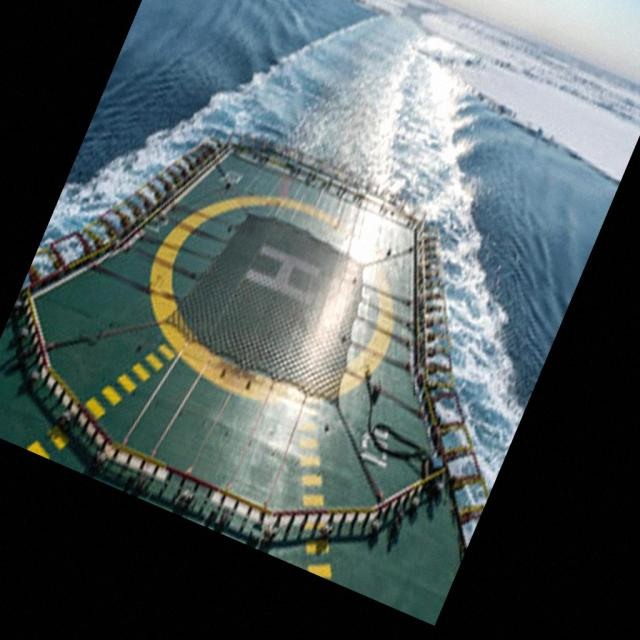helipad: (141, 189, 400, 410)
